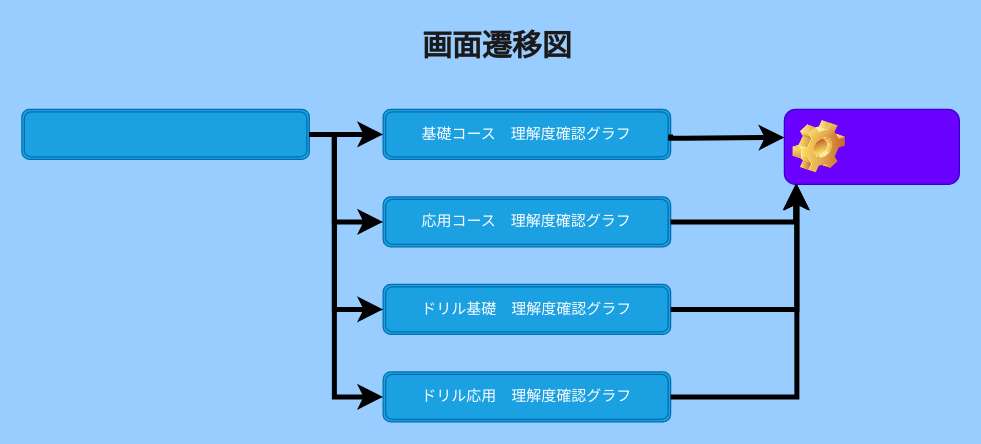
The diagram is 981 pixels wide and 444 high, and some of its shapes have lost their labels. The centre of each missing label's shape, as x and y in pixels:
"TECH CAMP 問題ページ" goes at point (871, 146).
"TECH CAMP 学習 理解度確認グラフ" goes at point (165, 133).
